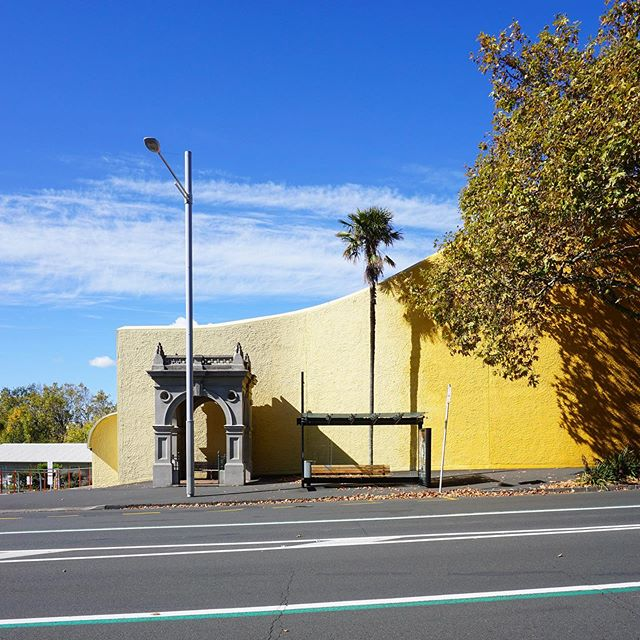light pole: (141, 130, 205, 500)
sky: (1, 1, 446, 258)
street: (1, 481, 640, 640)
tree: (440, 1, 640, 365), (329, 189, 409, 409)
